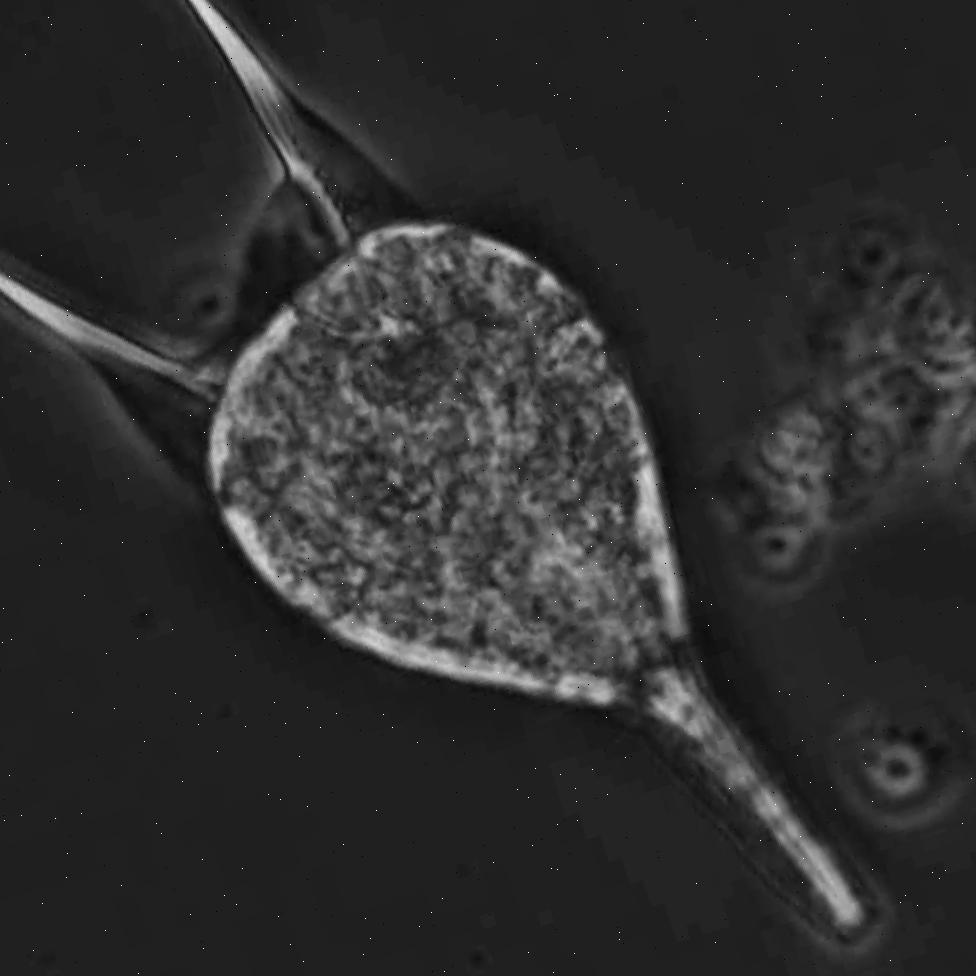podolampas_bipes: (0, 0, 870, 937)
